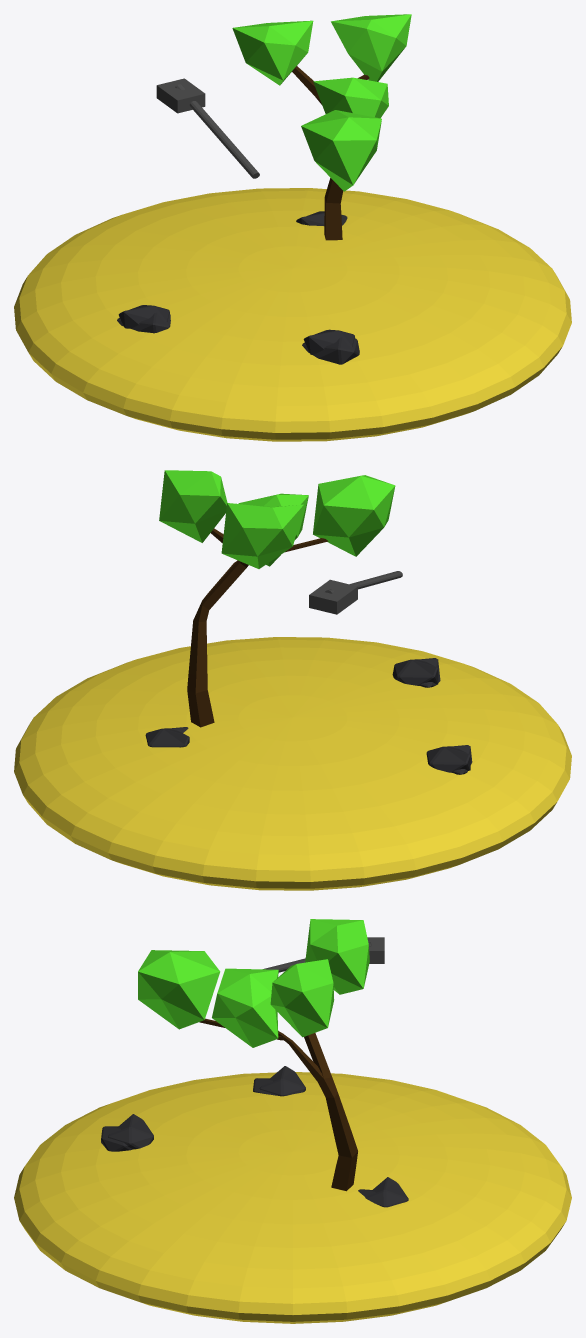
File: island1.glb
The picture shows the model from 3 angles, top to bottom: view 1: azimuth 30°, elevation 25°; view 2: azimuth 150°, elevation 25°; view 3: azimuth 270°, elevation 25°; orthographic projection.
Parts seen in each view (by area): view 1: Sphere, Icosphere.016, Icosphere.015, Icosphere.014, Icosphere.013, Icosphere.011, Cube.004, Icosphere.010, Cube.002, Cylinder.002; view 2: Sphere, Icosphere.016, Icosphere.014, Icosphere.015, Cube.004, Cube.002, Icosphere.011, Icosphere.010, Icosphere.013, Icosphere.012; view 3: Sphere, Icosphere.016, Icosphere.013, Icosphere.015, Icosphere.014, Cube.004, Icosphere.011, Icosphere.010, Icosphere.012.
Boxes of the visible parts, x1,y1,x2,y2 form: Sphere: (14,188,571,441); Icosphere.016: (301,110,381,191); Icosphere.015: (331,14,411,81); Icosphere.014: (232,20,313,85); Icosphere.013: (313,77,388,118); Icosphere.011: (302,329,359,364); Cube.004: (292,66,369,240); Icosphere.010: (117,305,170,333); Cube.002: (156,78,205,113); Cylinder.002: (175,84,259,178); Sphere: (14,637,571,890); Icosphere.016: (313,475,395,556); Icosphere.014: (221,503,303,568); Icosphere.015: (159,470,227,542); Cube.004: (187,528,328,727); Cube.002: (309,579,357,614); Icosphere.011: (392,658,440,687); Icosphere.010: (426,745,472,774); Icosphere.013: (238,493,308,566); Icosphere.012: (145,727,189,747); Sphere: (14,1072,571,1323); Icosphere.016: (138,950,220,1029); Icosphere.013: (212,968,278,1047); Icosphere.015: (270,959,334,1037); Icosphere.014: (305,919,369,994); Cube.004: (199,1018,357,1191); Icosphere.011: (101,1114,153,1151); Icosphere.010: (253,1066,305,1096); Icosphere.012: (358,1177,408,1207).
Size of the model in its own units: 6.63 by 4.2 by 6.66.
